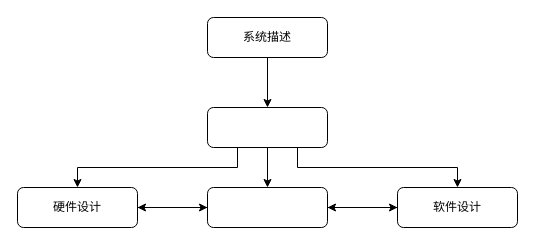
The diagram is 535 pixels wide and 245 high, and some of its shapes have lost their labels. The shapes that lost their labels are listed below. From the top down, each one's centre as x and y in pixels, then its label:
(267,127): 软件/硬件任务划分
(267,207): 硬件/软件接口
